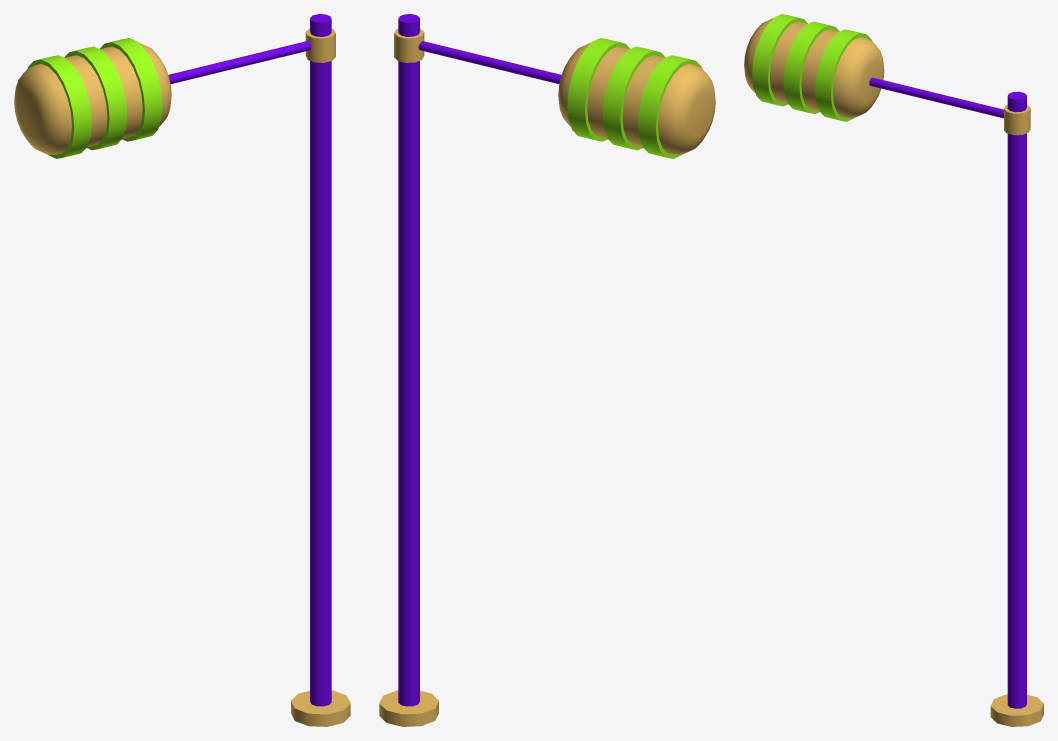
File: Obstacle8.fbx
The picture shows the model from 3 angles, left to right: view 1: azimuth 30°, elevation 25°; view 2: azimuth 150°, elevation 25°; view 3: azimuth 330°, elevation 25°; orthographic projection. The views are drawn at different scales.
Visible parts, largest first — view 1: PIllow, Body; view 2: PIllow, Body; view 3: PIllow, Body.
Boxes of the visible parts, left/top/right/bottom form: PIllow: left=14, top=28, right=335, bottom=158; Body: left=291, top=14, right=350, bottom=726; PIllow: left=394, top=28, right=715, bottom=158; Body: left=379, top=14, right=438, bottom=726; PIllow: left=744, top=14, right=1030, bottom=135; Body: left=990, top=91, right=1043, bottom=726.
Size of the model in its own units: 347 by 747 by 96.27.
